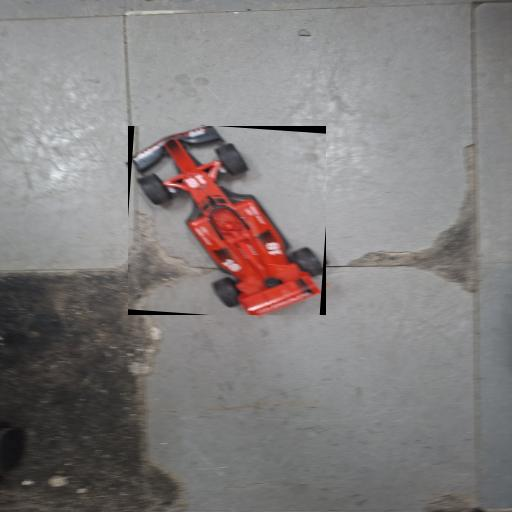carro: (128, 127, 326, 314)
